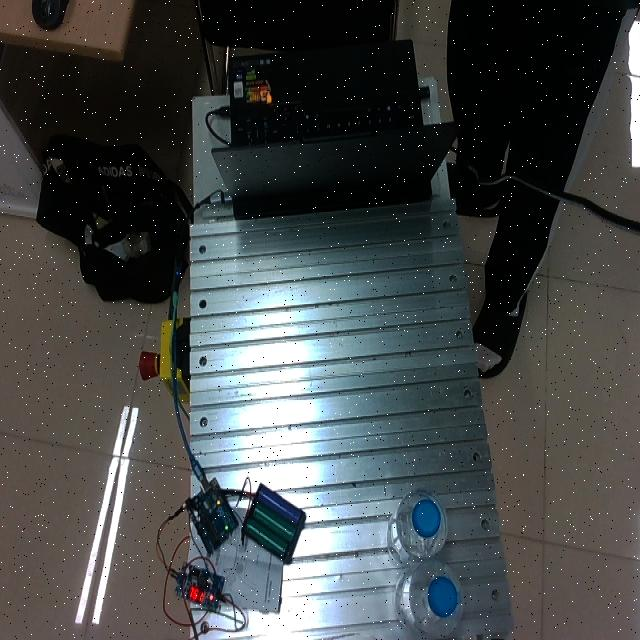lavie: (394, 558, 463, 638), (387, 488, 448, 567)
